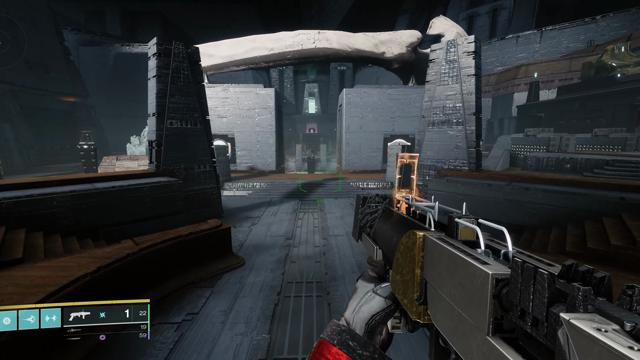traveler: (212, 138, 231, 160)
